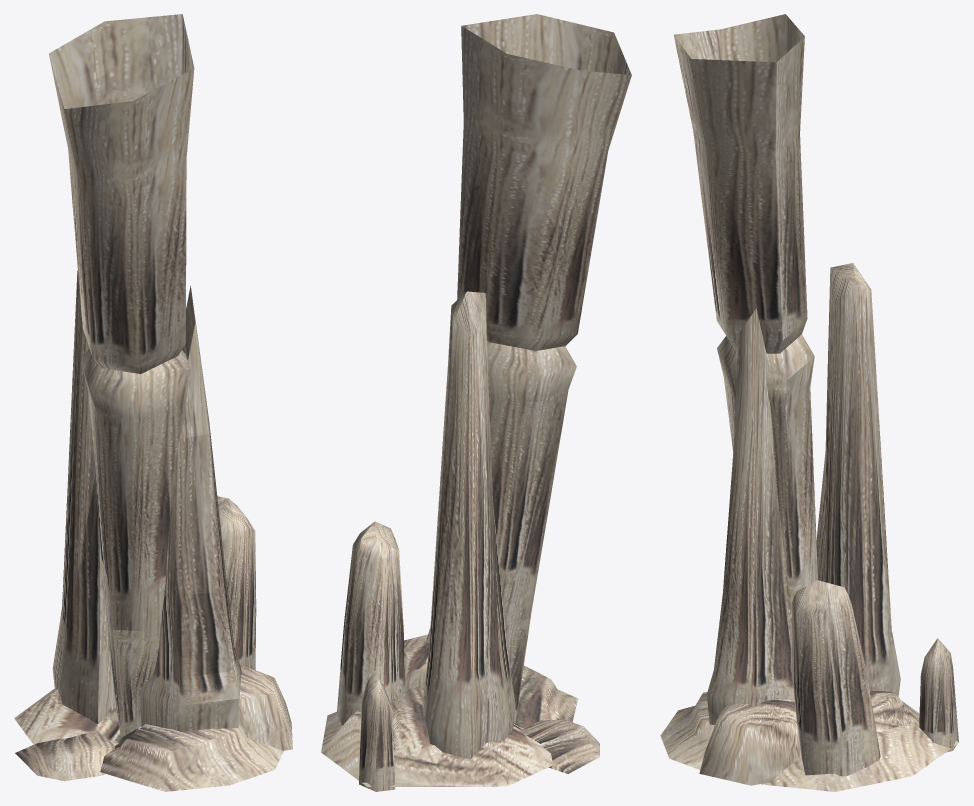
Rendered from pir_m_prp_cav_stitesmites_large_white.fbx.
The picture shows the model from 3 angles, left to right: view 1: azimuth 30°, elevation 25°; view 2: azimuth 150°, elevation 25°; view 3: azimuth 270°, elevation 25°; orthographic projection. The views are drawn at different scales.
Visible parts, largest first — view 1: pCylinder41, pCylinder37, pCylinder30, pCylinder33, pCube3, pCylinder40, pCylinder35, pCube16, pCube15; view 2: pCylinder41, pCylinder33, pCylinder37, pCylinder40, pCube15, pCylinder34, pCube16, pCube3, pCube17, pCylinder35; view 3: pCylinder41, pCylinder33, pCylinder30, pCylinder40, pCylinder37, pCylinder35, pCube15, pCylinder34, pCube3, pCube17.
Part boxes in pixels (x1,y1,x2,y2): pCylinder41: [49, 14, 194, 373]; pCylinder37: [80, 348, 190, 737]; pCylinder30: [139, 286, 241, 731]; pCylinder33: [52, 270, 114, 723]; pCube3: [100, 724, 283, 791]; pCylinder40: [217, 496, 256, 670]; pCylinder35: [239, 664, 292, 750]; pCube16: [15, 731, 114, 781]; pCube15: [14, 689, 141, 745]; pCylinder41: [457, 14, 631, 351]; pCylinder33: [422, 291, 515, 759]; pCylinder37: [424, 341, 576, 723]; pCylinder40: [336, 521, 404, 725]; pCube15: [321, 711, 553, 786]; pCylinder34: [359, 670, 395, 791]; pCube16: [520, 719, 599, 773]; pCube3: [515, 665, 578, 728]; pCube17: [390, 685, 442, 763]; pCylinder35: [404, 634, 428, 691]; pCylinder41: [673, 14, 807, 353]; pCylinder33: [816, 263, 900, 695]; pCylinder30: [707, 308, 794, 725]; pCylinder40: [791, 580, 880, 776]; pCylinder37: [717, 334, 817, 612]; pCylinder35: [699, 699, 801, 785]; pCube15: [761, 700, 959, 791]; pCylinder34: [919, 638, 958, 752]; pCube3: [660, 692, 714, 769]; pCube17: [870, 691, 916, 732].
Bounding box in the file's own units: 2138 × 5790 × 2296.
Materials: 1 (1 with a texture image).
